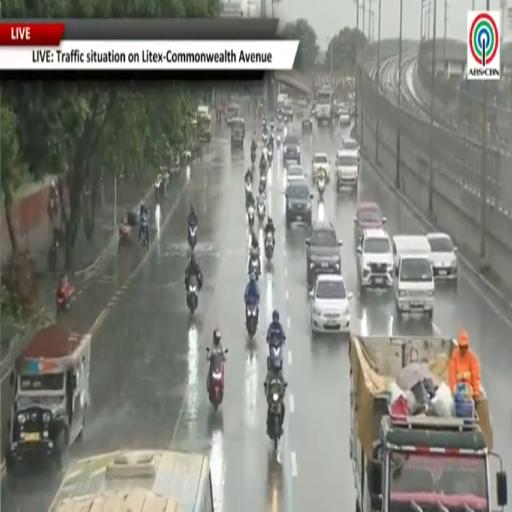bus: (49, 451, 214, 511)
car: (310, 275, 353, 332), (306, 220, 342, 287), (357, 229, 393, 293), (427, 233, 457, 282), (354, 202, 386, 246), (285, 181, 312, 226), (335, 150, 359, 190), (312, 153, 330, 181), (283, 135, 300, 164), (286, 165, 305, 182), (342, 138, 359, 156), (338, 107, 350, 126), (283, 104, 293, 122), (302, 116, 312, 133)
jeepney: (6, 325, 91, 469), (231, 118, 245, 148), (197, 115, 211, 141), (225, 102, 240, 125)
motorcycle: (207, 348, 228, 410), (267, 383, 286, 451), (56, 281, 73, 314), (186, 277, 199, 314), (267, 340, 282, 371), (246, 304, 258, 338), (248, 251, 260, 280), (48, 238, 58, 271), (119, 223, 131, 246), (154, 178, 164, 203), (188, 224, 197, 250), (140, 223, 149, 248), (265, 232, 273, 260), (257, 198, 265, 222), (318, 176, 325, 200), (248, 205, 254, 227), (259, 159, 267, 174), (260, 171, 266, 189), (245, 181, 252, 196), (259, 181, 265, 196), (268, 144, 273, 161), (277, 133, 282, 146), (251, 151, 256, 164), (262, 132, 267, 142), (284, 114, 289, 124)
truck: (350, 334, 507, 511), (316, 88, 332, 126), (276, 93, 288, 110)
